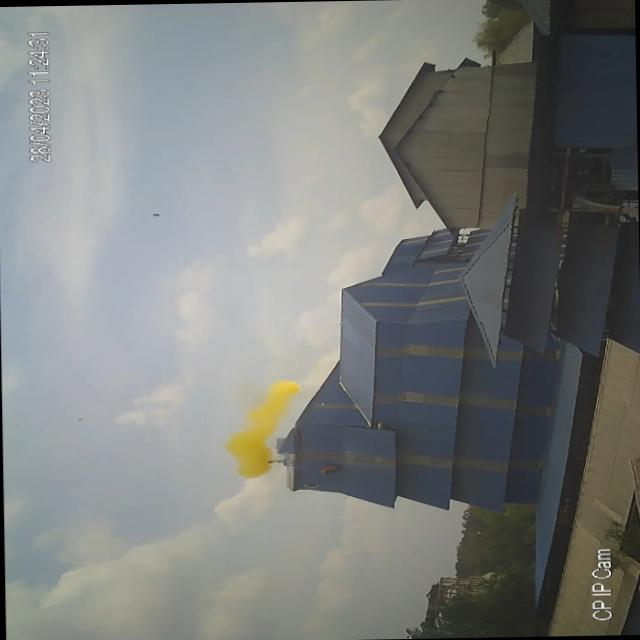yellow smoke: (219, 378, 303, 479)
